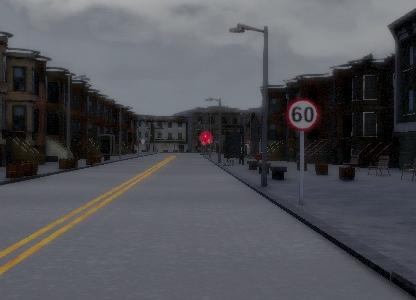Speed_60: (288, 95, 322, 134)
